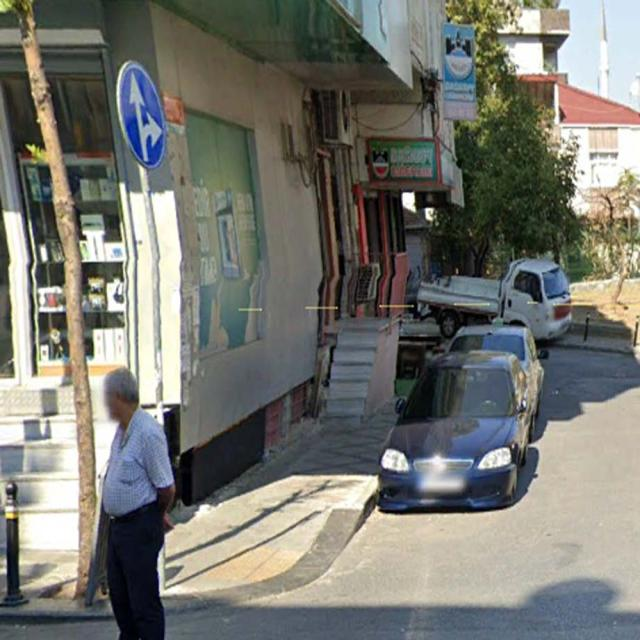ilerisag: (114, 58, 168, 166)
